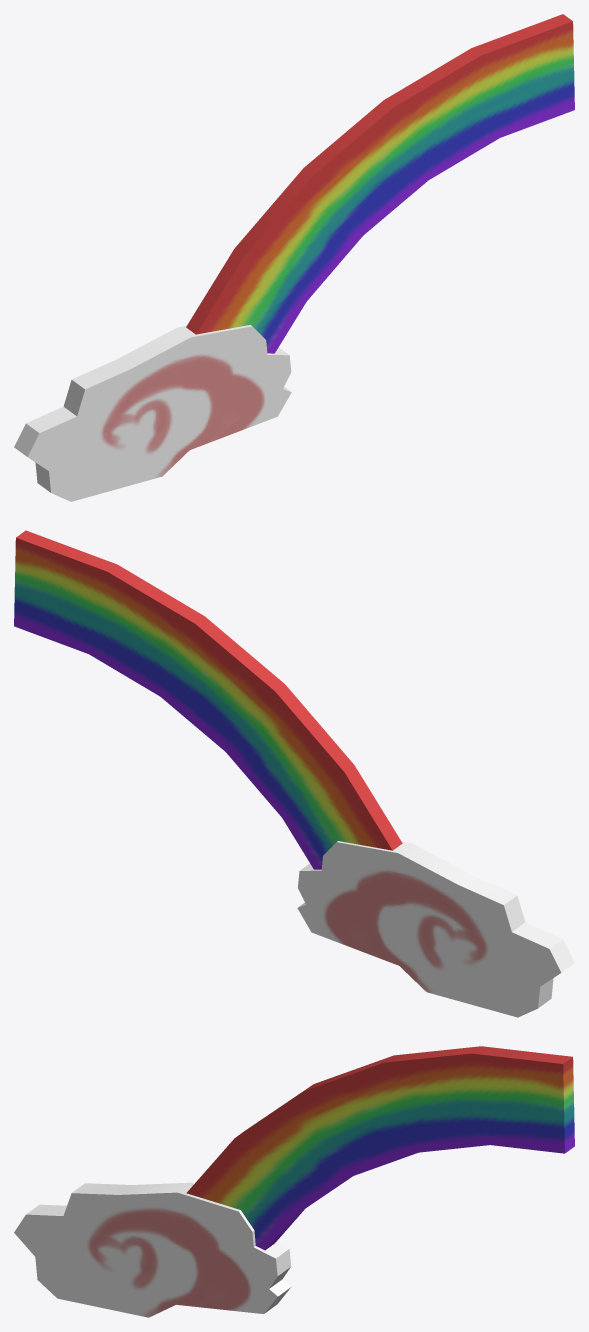
Rendered from CloudRainbow.fbx.
3 views of the same model, one above another, from view 1: azimuth 30°, elevation 25°; view 2: azimuth 150°, elevation 25°; view 3: azimuth 330°, elevation 25° (orthographic).
Visible parts, largest first — view 1: CloudRainbow; view 2: CloudRainbow; view 3: CloudRainbow.
Part boxes in pixels (x1,y1,x2,y2): CloudRainbow: (14,14,574,501); CloudRainbow: (14,530,574,1017); CloudRainbow: (14,1046,574,1317).
Size of the model in its own units: 1042 by 645 by 44.6.
